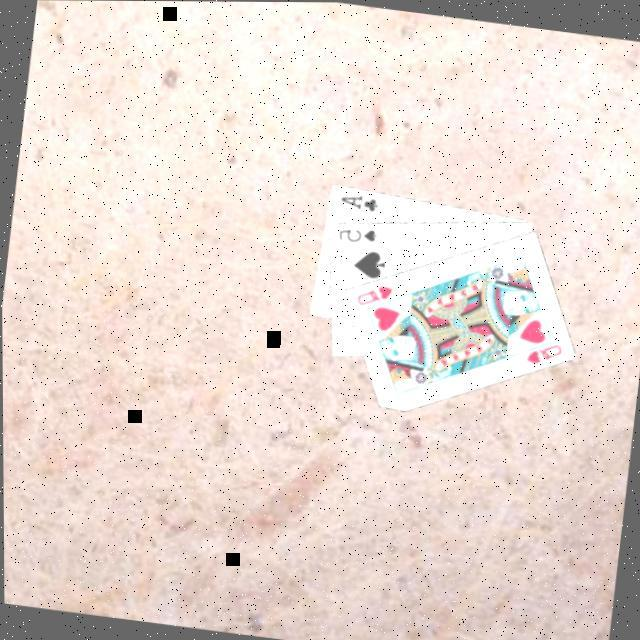5S: (335, 220, 381, 246)
AC: (337, 186, 382, 214)
QH: (514, 331, 566, 368), (352, 278, 398, 310)
